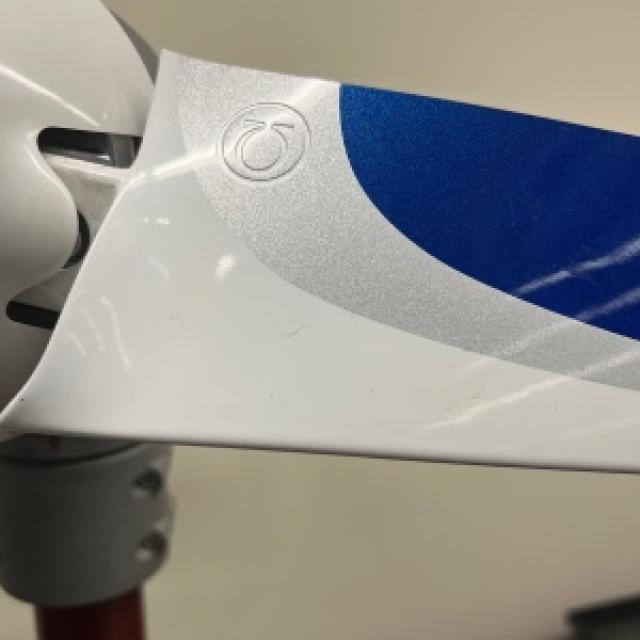healthy: (145, 448, 638, 638), (0, 0, 151, 407)
